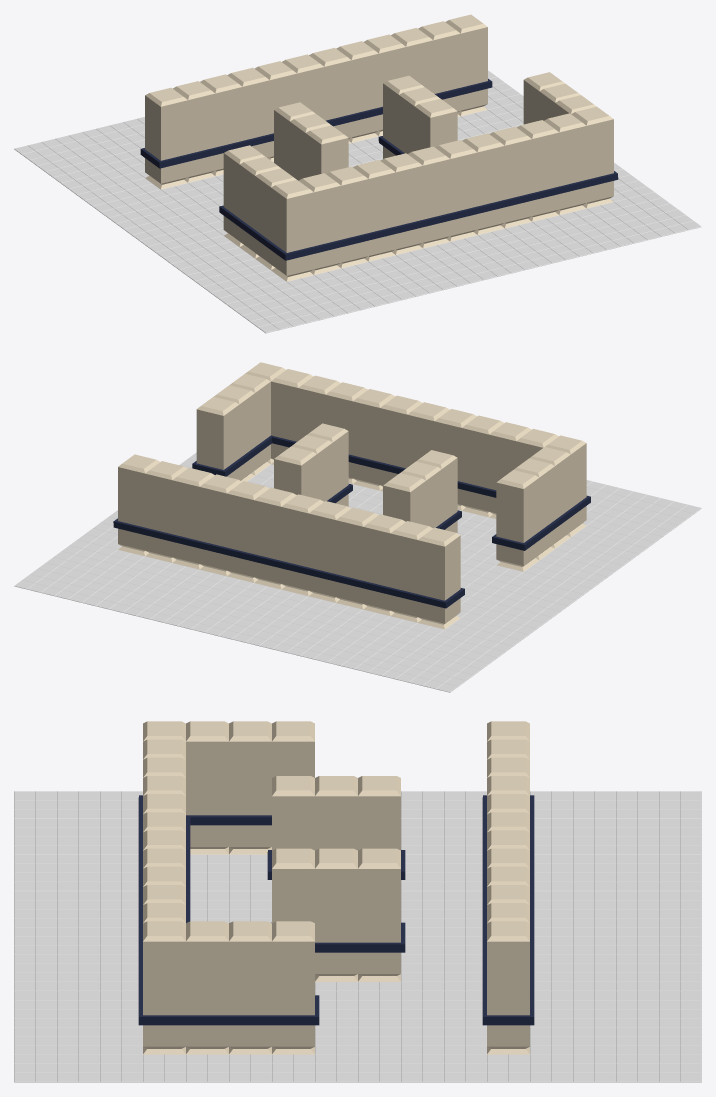
Rendered from clean-room.gltf.
3 renders of one model, top to bottom at view 1: azimuth 30°, elevation 25°; view 2: azimuth 150°, elevation 25°; view 3: azimuth 270°, elevation 25°, orthographic. The views are drawn at different scales.
Parts seen in each view (by area): view 1: Dark-Wall.033, Dark-Wall.015, Dark-Wall.008, Dark-Wall.017, Dark-Wall.014, Dark-Wall.006, Dark-Wall.009, Dark-Wall.034, Dark-Wall.016, Dark-Wall.028, Dark-Wall.032, Dark-Wall.012 (+24 smaller); view 2: Dark-Wall.033, Dark-Wall.021, Dark-Wall.018, Dark-Wall.027, Dark-Wall.030, Dark-Wall.024, Dark-Wall.026, Dark-Wall.010, Dark-Wall.029, Dark-Wall.034, Dark-Wall.035, Dark-Wall.031 (+23 smaller); view 3: Dark-Wall.014, Dark-Wall.018, Dark-Wall.019, Dark-Wall.020, Dark-Wall.032, Dark-Wall.001, Dark-Wall.004, Dark-Wall.022, Dark-Wall.023, Dark-Wall.005, Dark-Wall, Dark-Wall.002 (+28 smaller).
Boxes of the visible parts, x1,y1,x2,y2 form: Dark-Wall.033: (145,87,187,189); Dark-Wall.015: (271,180,313,281); Dark-Wall.008: (407,146,450,248); Dark-Wall.017: (326,166,368,268); Dark-Wall.014: (571,106,613,208); Dark-Wall.006: (353,160,395,261); Dark-Wall.009: (435,140,477,241); Dark-Wall.034: (173,81,215,182); Dark-Wall.016: (299,173,341,274); Dark-Wall.028: (336,41,378,142); Dark-Wall.032: (445,14,487,116); Dark-Wall.012: (517,120,559,221); Dark-Wall.033: (417,527,460,629); Dark-Wall.021: (496,470,539,571); Dark-Wall.018: (196,397,239,479); Dark-Wall.027: (254,487,296,589); Dark-Wall.030: (172,467,214,569); Dark-Wall.024: (336,507,378,609); Dark-Wall.026: (281,494,323,595); Dark-Wall.010: (352,389,395,490); Dark-Wall.029: (199,474,241,576); Dark-Wall.034: (390,521,432,622); Dark-Wall.035: (363,514,405,615); Dark-Wall.031: (145,461,187,562); Dark-Wall.014: (143,921,185,1054); Dark-Wall.018: (272,921,314,1054); Dark-Wall.019: (229,921,271,1054); Dark-Wall.020: (186,921,228,1054); Dark-Wall.032: (487,921,529,1054); Dark-Wall.001: (358,848,400,981); Dark-Wall.004: (315,848,357,981); Dark-Wall.022: (229,721,271,854); Dark-Wall.023: (186,721,228,854); Dark-Wall.005: (272,848,314,922); Dark-Wall: (358,776,400,850); Dark-Wall.002: (315,776,357,850).
Size of the model in its own units: 16 by 3.02 by 16.
